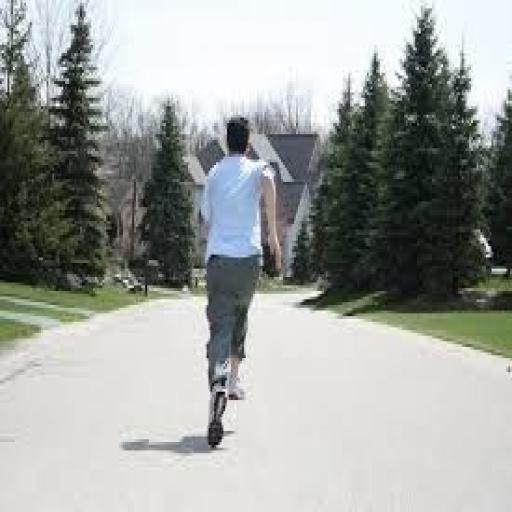running: (195, 112, 285, 450)
